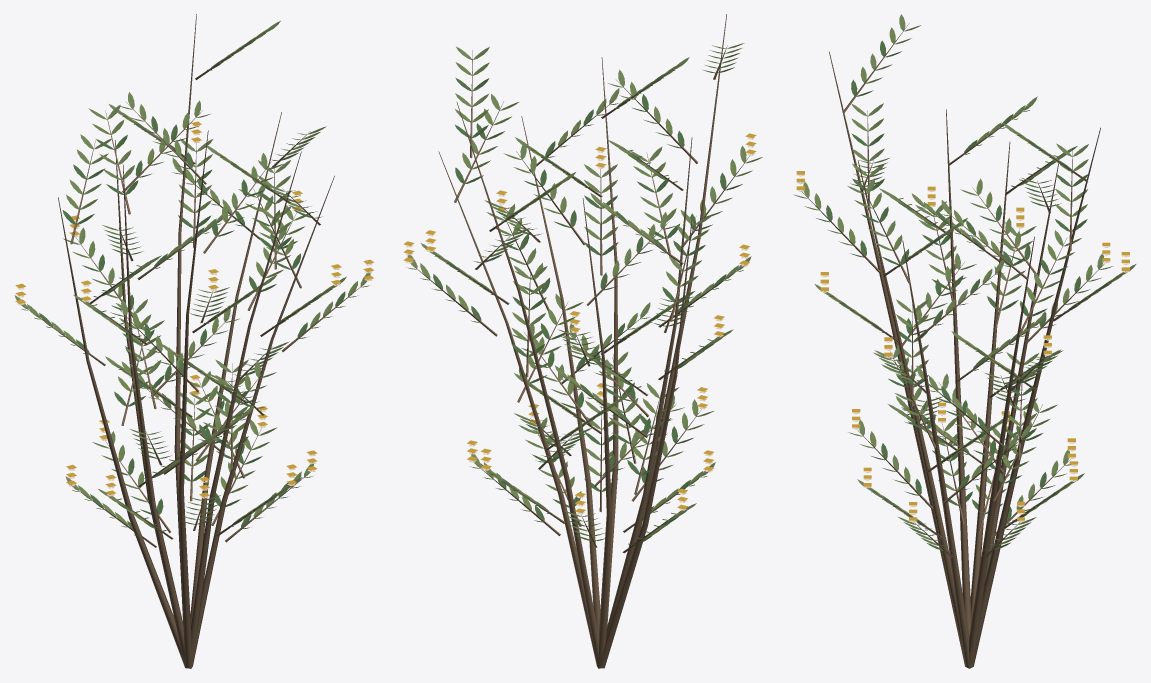
The model's file is BruyereFine_1_High.fbx.
The picture shows the model from 3 angles, left to right: view 1: azimuth 30°, elevation 25°; view 2: azimuth 150°, elevation 25°; view 3: azimuth 270°, elevation 25°; orthographic projection. The views are drawn at different scales.
Parts seen in each view (by area): view 1: BruyereFine_1_High; view 2: BruyereFine_1_High; view 3: BruyereFine_1_High.
Boxes of the visible parts, x1,y1,x2,y2 form: BruyereFine_1_High: (14,14,373,668); BruyereFine_1_High: (403,14,762,668); BruyereFine_1_High: (793,14,1136,668).
Bounding box in the file's own units: 102 × 195 × 101.
